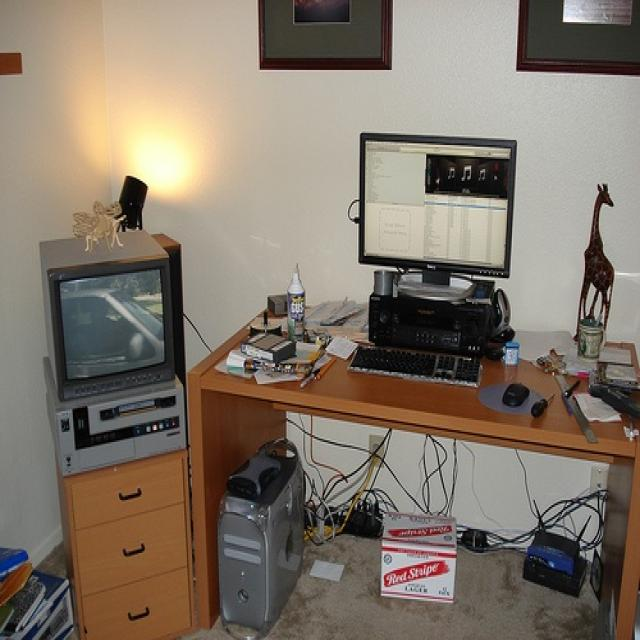tvmonitor: (359, 131, 517, 304), (38, 227, 176, 403)
